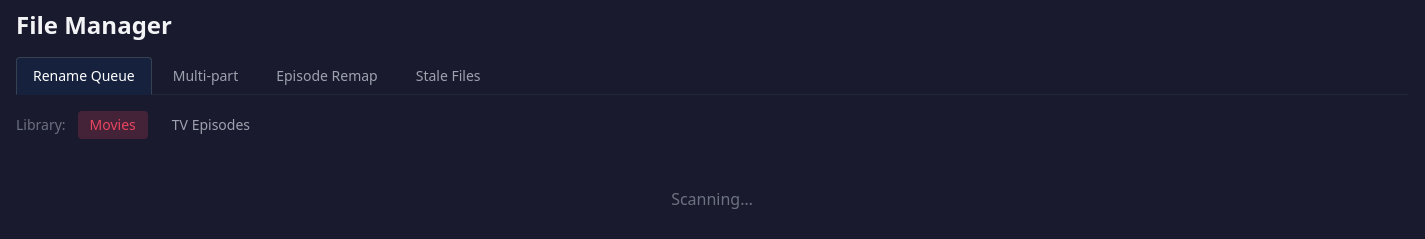
Test case: FilesPage › Rename Queue tab › switches to episodes type
Click the button "TV Episodes" at (211, 125), box [160, 111, 262, 139]
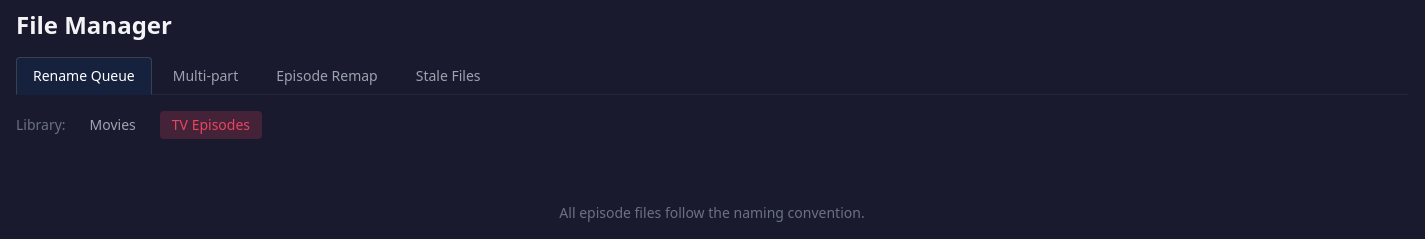
Check: the text "All episode files follow the naming convention." is shown, box [559, 203, 865, 222]
